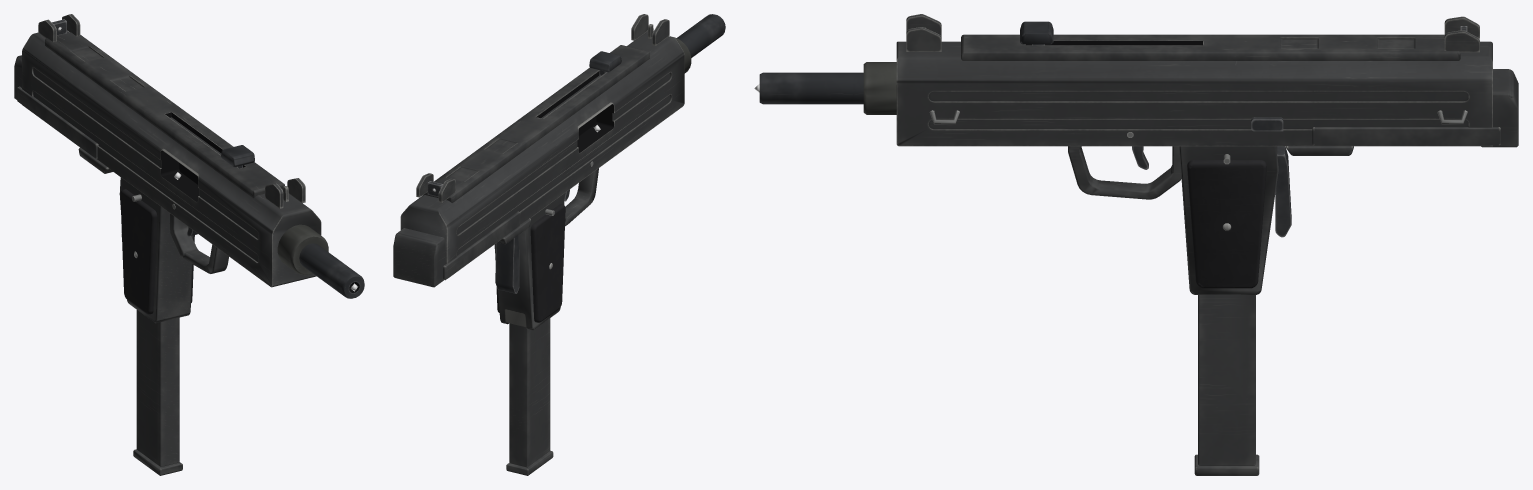
File: SMG_B_Uzi.fbx
The picture shows the model from 3 angles, left to right: view 1: azimuth 30°, elevation 25°; view 2: azimuth 150°, elevation 25°; view 3: azimuth 270°, elevation 25°; orthographic projection. The views are drawn at different scales.
Visible parts, largest first — view 1: Handle, Magazine, Bolt; view 2: Handle, Magazine, Bolt; view 3: Handle, Magazine, Bolt.
Boxes of the visible parts, bbox=[...] form: Handle: bbox=[14, 14, 364, 323]; Magazine: bbox=[133, 310, 182, 475]; Bolt: bbox=[221, 145, 254, 168]; Handle: bbox=[393, 14, 725, 330]; Magazine: bbox=[506, 318, 553, 475]; Bolt: bbox=[589, 51, 621, 75]; Handle: bbox=[759, 14, 1518, 294]; Magazine: bbox=[1194, 295, 1259, 475]; Bolt: bbox=[1020, 21, 1053, 45].
Size of the model in its own units: 0.1977 by 1.11 by 1.71.
Materials: 2 (1 with a texture image).
